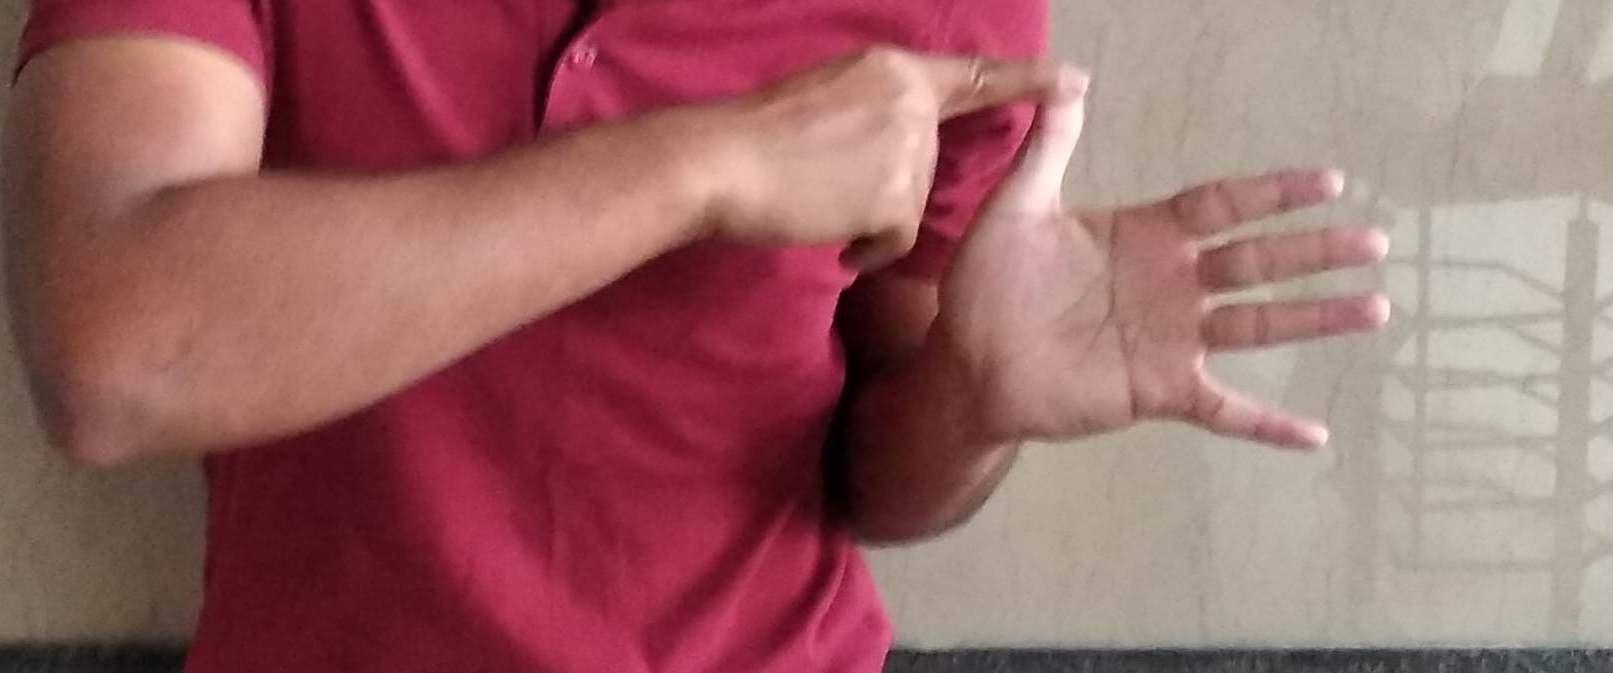a: (742, 42, 1407, 484)
